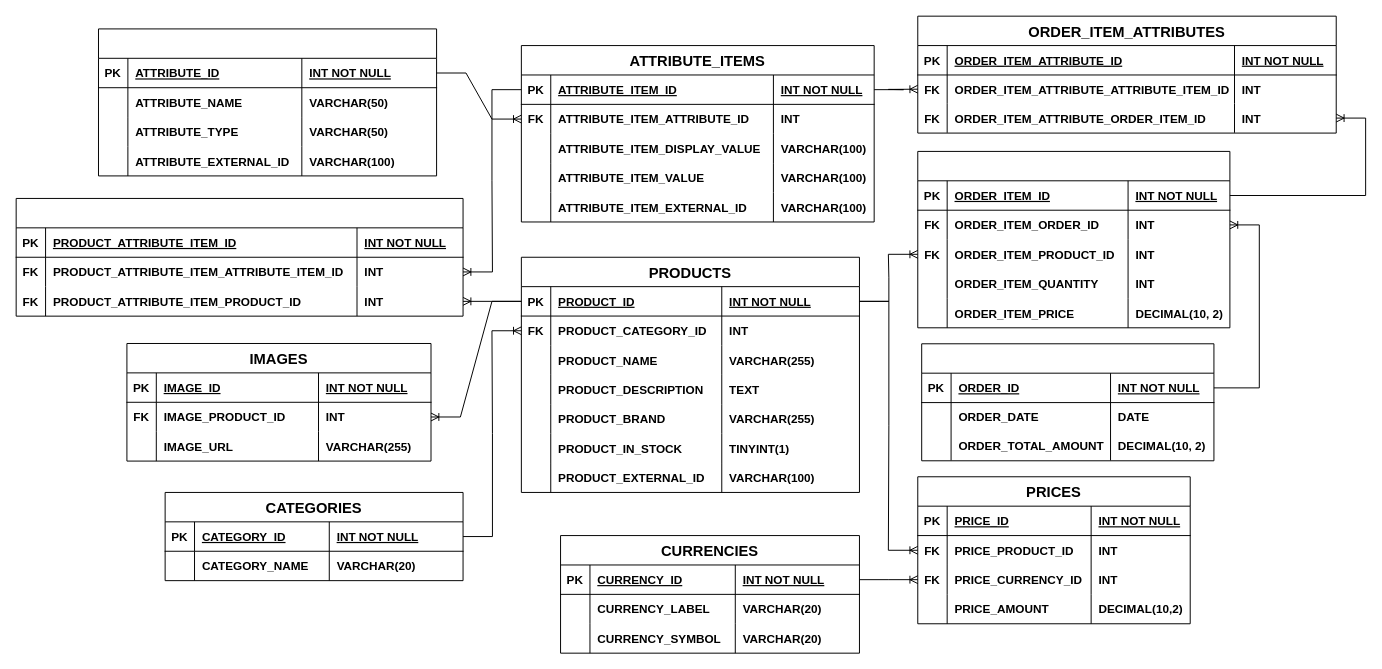
Image size: 1382x669. Some labels were removed from this diagram. Here are the shapes that lost their labels. From the top down, the box of each, then its label:
(98, 28, 437, 176): ATTRIBUTES
(15, 197, 463, 316): PRODUCT_ATTRIBUTE_ITEMS
(917, 150, 1230, 328): ORDER_ITEMS
(921, 343, 1214, 461): ORDERS
